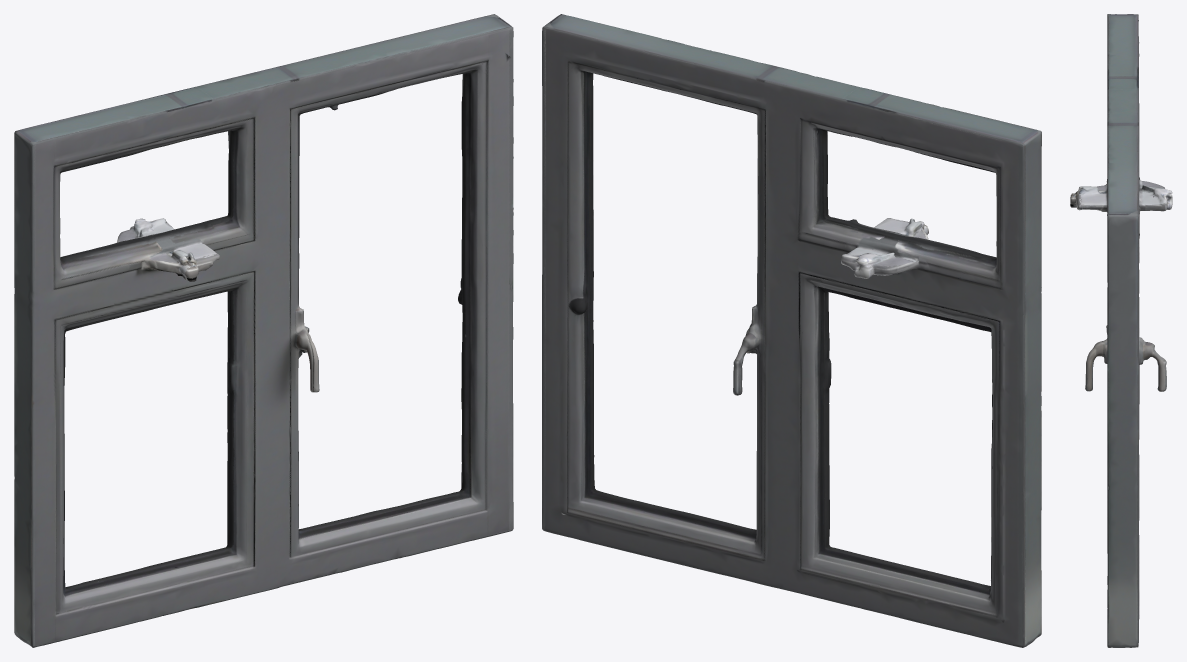
3 views of the same model, side by side, from view 1: azimuth 30°, elevation 25°; view 2: azimuth 150°, elevation 25°; view 3: azimuth 270°, elevation 25° (orthographic). The views are drawn at different scales.
Size of the model in its own units: 2 by 2.01 by 0.4304.
1 material, 1 textured.
